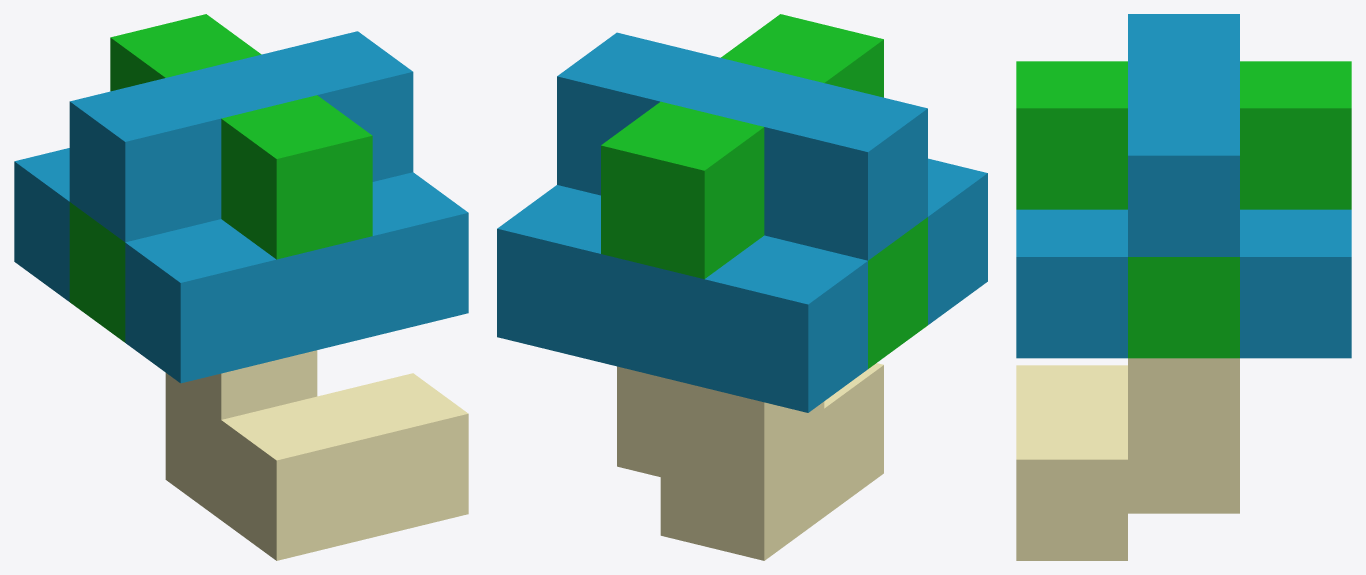
Rendered from Mushroom3_M.obj.
3 renders of one model, left to right at view 1: azimuth 30°, elevation 25°; view 2: azimuth 150°, elevation 25°; view 3: azimuth 270°, elevation 25°, orthographic. The views are drawn at different scales.
Parts seen in each view (by area): view 1: Mushroom3_M; view 2: Mushroom3_M; view 3: Mushroom3_M.
Boxes of the visible parts, <box> form: Mushroom3_M: <box>14,14,468,560</box>; Mushroom3_M: <box>497,14,987,560</box>; Mushroom3_M: <box>1016,14,1351,560</box>.
Size of the model in its own units: 0.3 by 0.4 by 0.3.
1 material, 1 textured.
